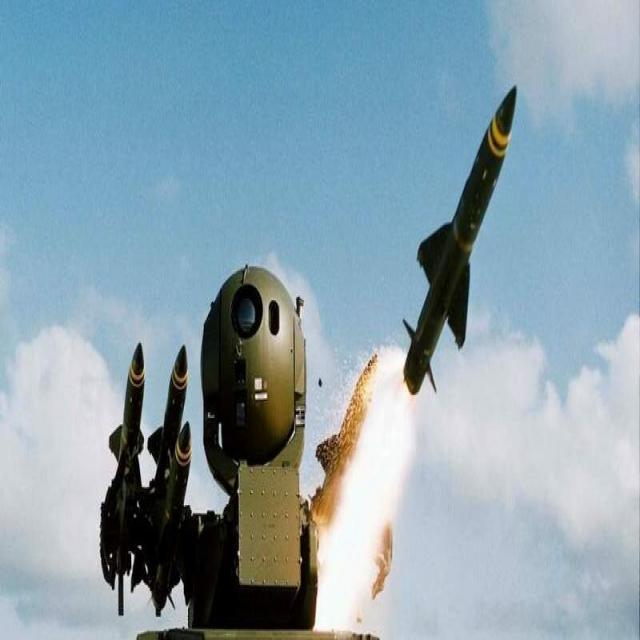Missile: (402, 82, 520, 408)
